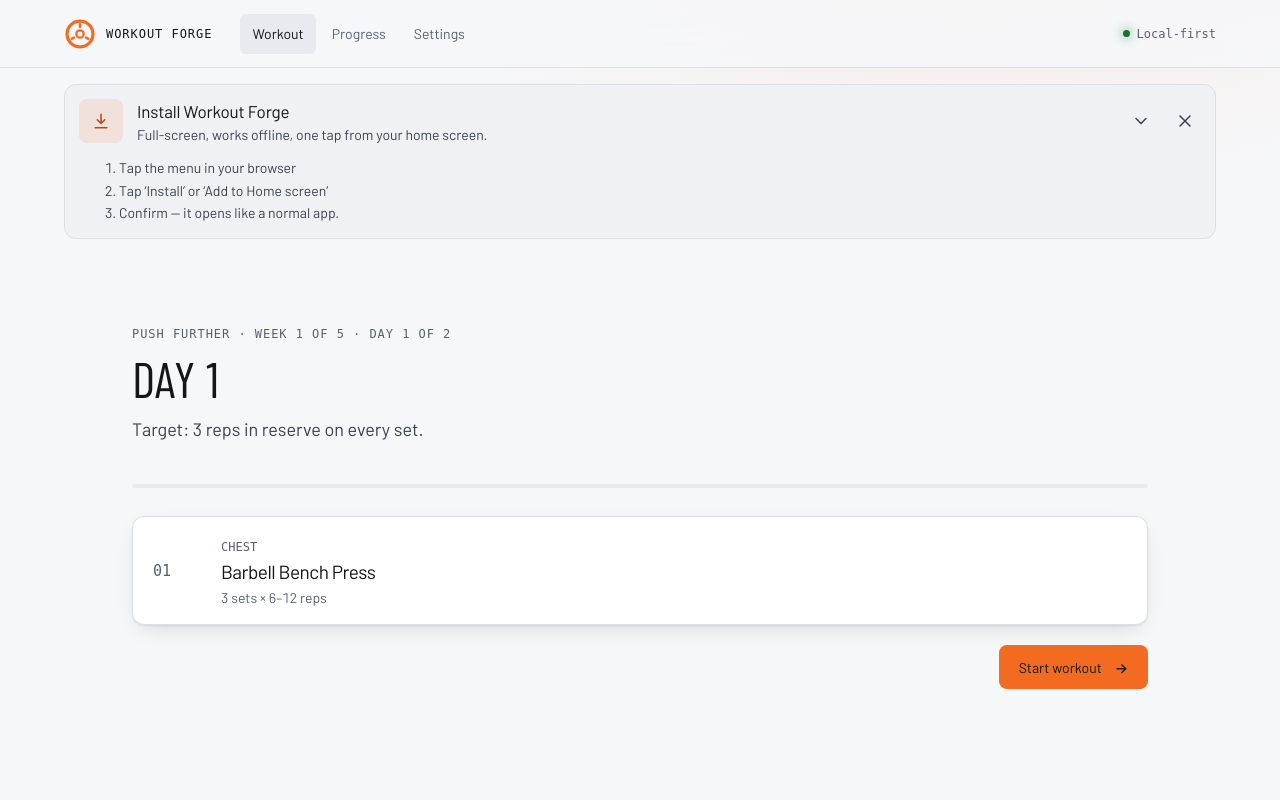
what’s new banner › does not show on the Settings view
Click the button "Settings" at (439, 34), box [402, 14, 477, 54]
(page scrolled)
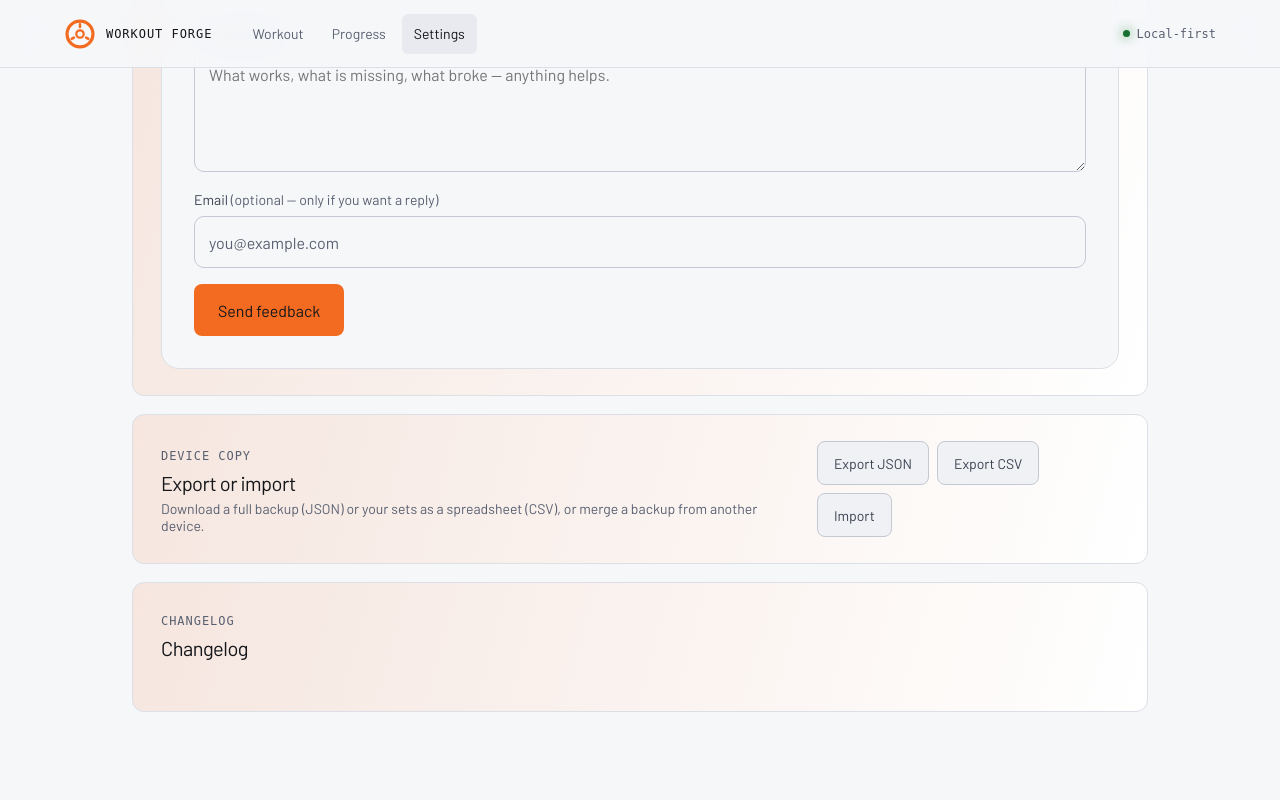
Check: the heading "Changelog" is shown, box [161, 636, 248, 660]
